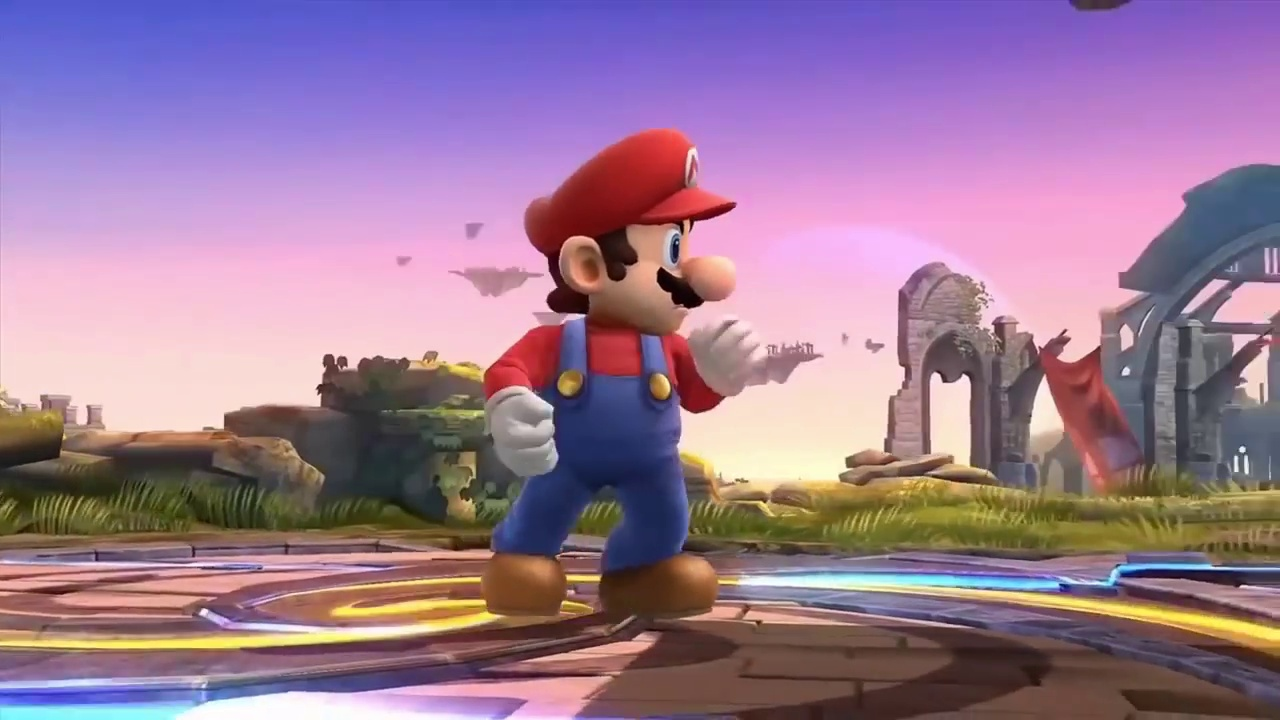Mario: (484, 126, 768, 612)
